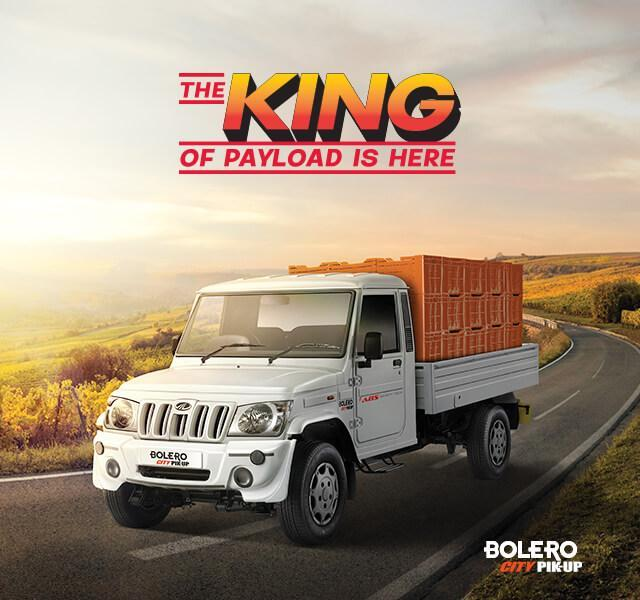truck: (92, 255, 538, 548)
